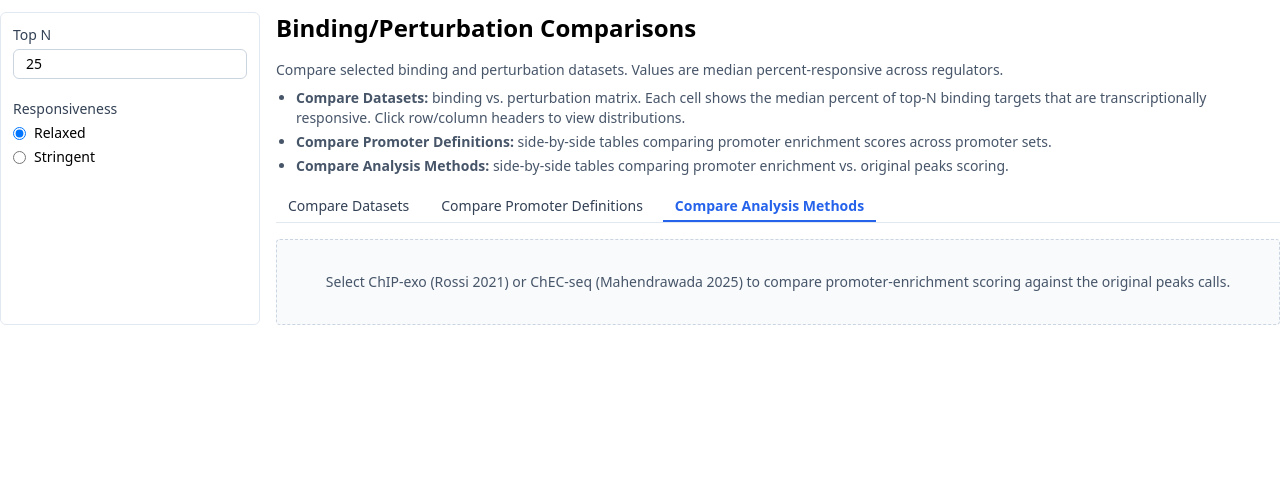
Test: Comparison route › shows the variant-tab empty state when no eligible binding dataset is picked
Expected: the text "original peaks calls" is shown, 326,272 -> 1230,291
// Switching to the promoters tab renders a real per-perturbation table.
Click the tab "Compare Promoter Definitions": (542, 207) 429,192 -> 655,222
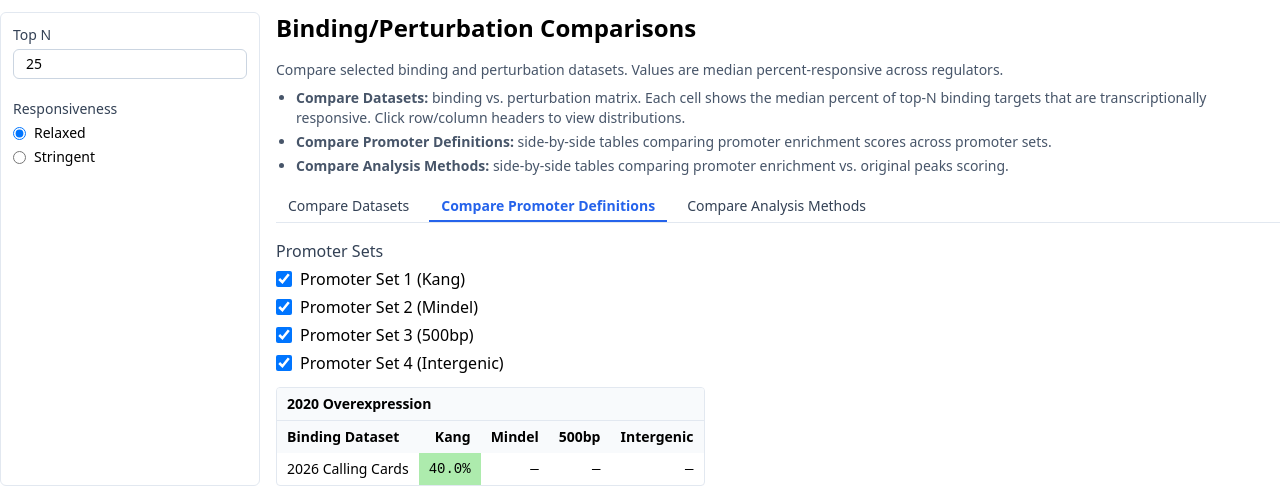
Now the element with test id "cp-tables" is shown, box 276,387 -> 704,486
